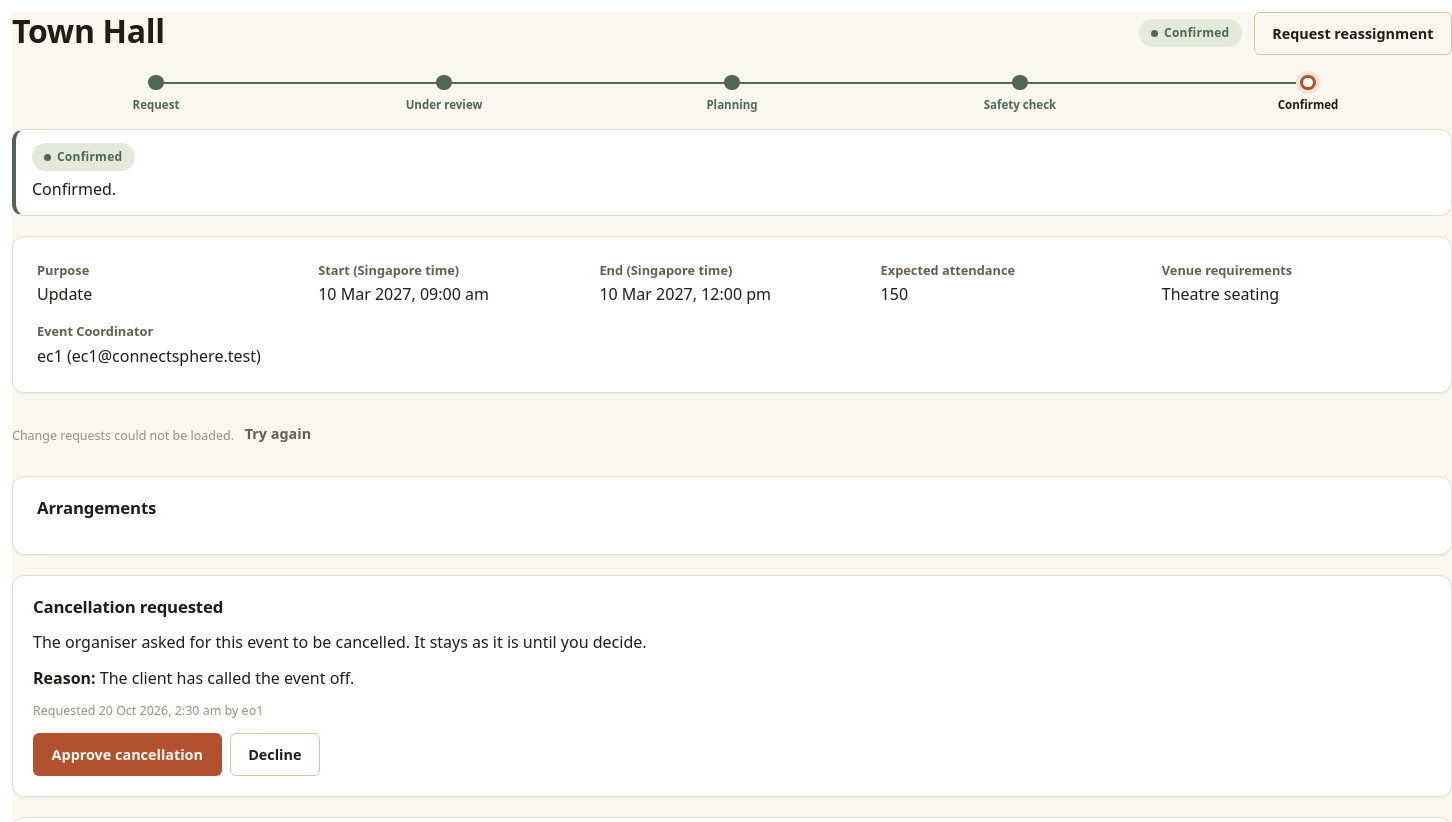
EO07 the assigned coordinator decides; the Lead only reads › EO07 AC8 (negative): "Keep event" backs out of approving without sending anything
Click the button "Approve cancellation" at x=127, y=754, box [33,733,222,776]
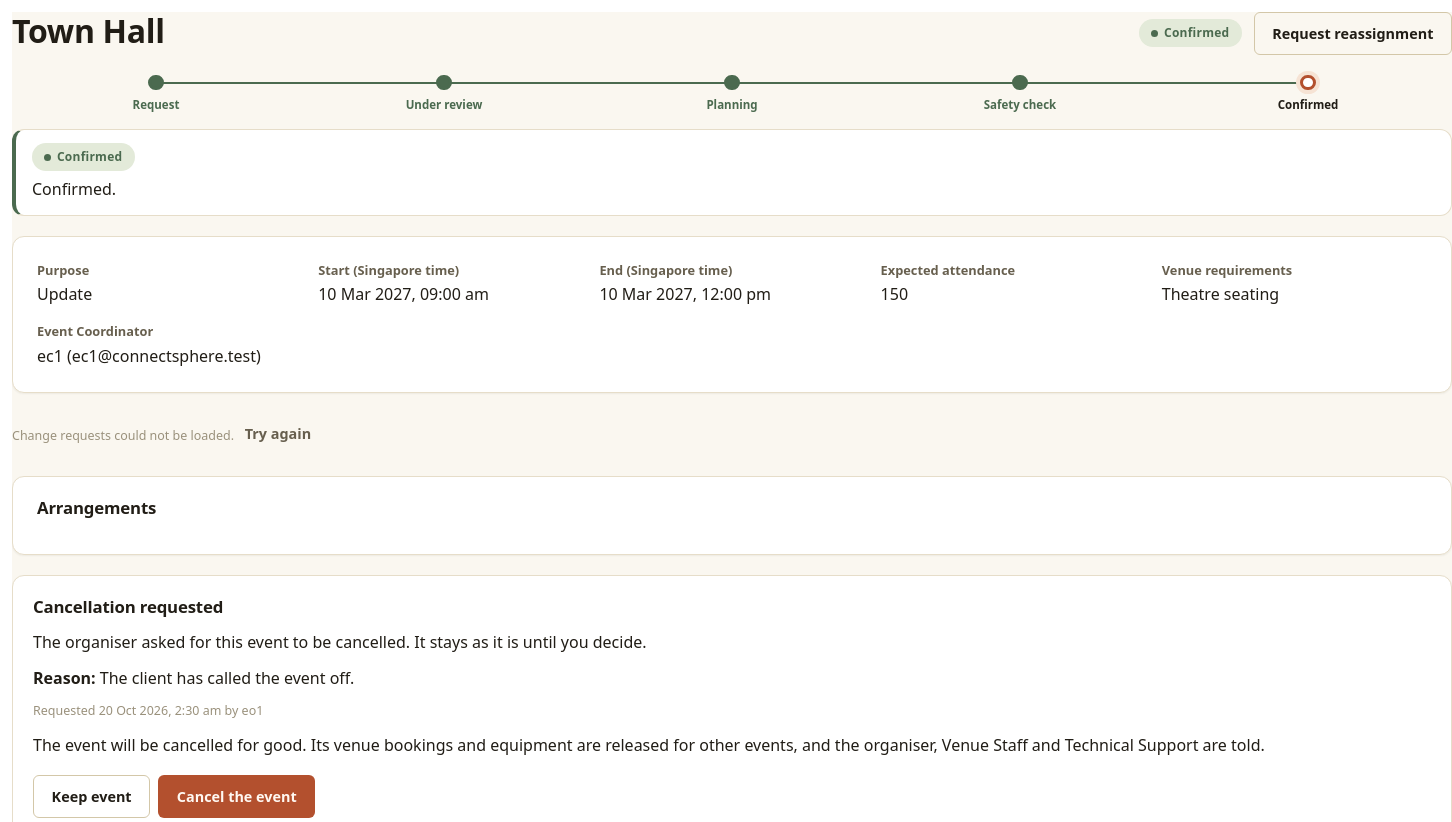
Click the button "Keep event" at x=92, y=797, box [33,775,150,818]
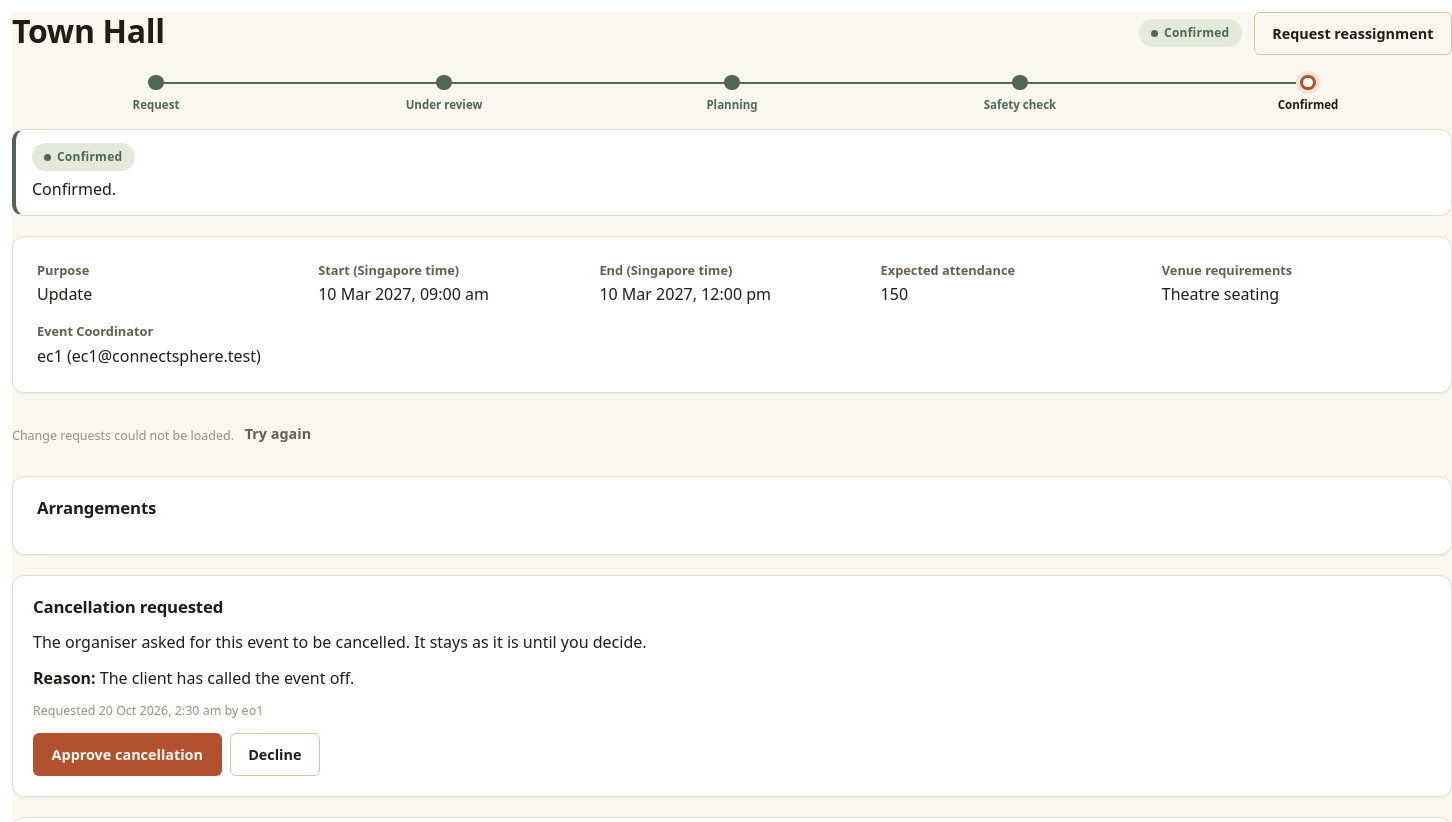
Expected: the button "Approve cancellation" is shown, [33,733,222,776]
